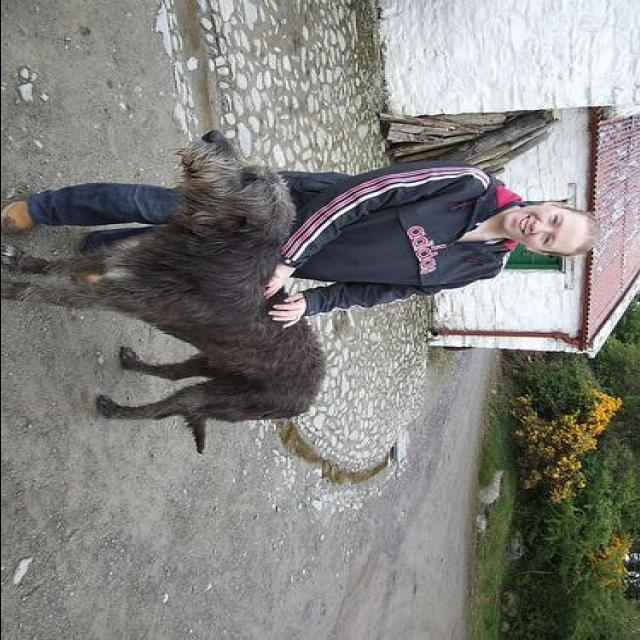irish_wolfhound: (2, 130, 326, 458)
